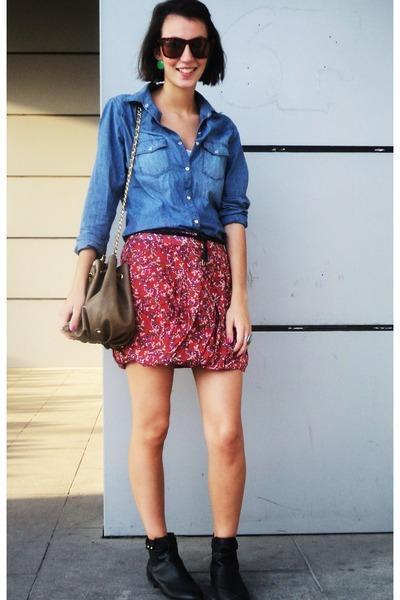jacket: (60, 86, 251, 255), (63, 252, 145, 359)
shoe: (132, 533, 250, 599)
skirt: (114, 233, 247, 383)
sunglass: (180, 27, 223, 59)
